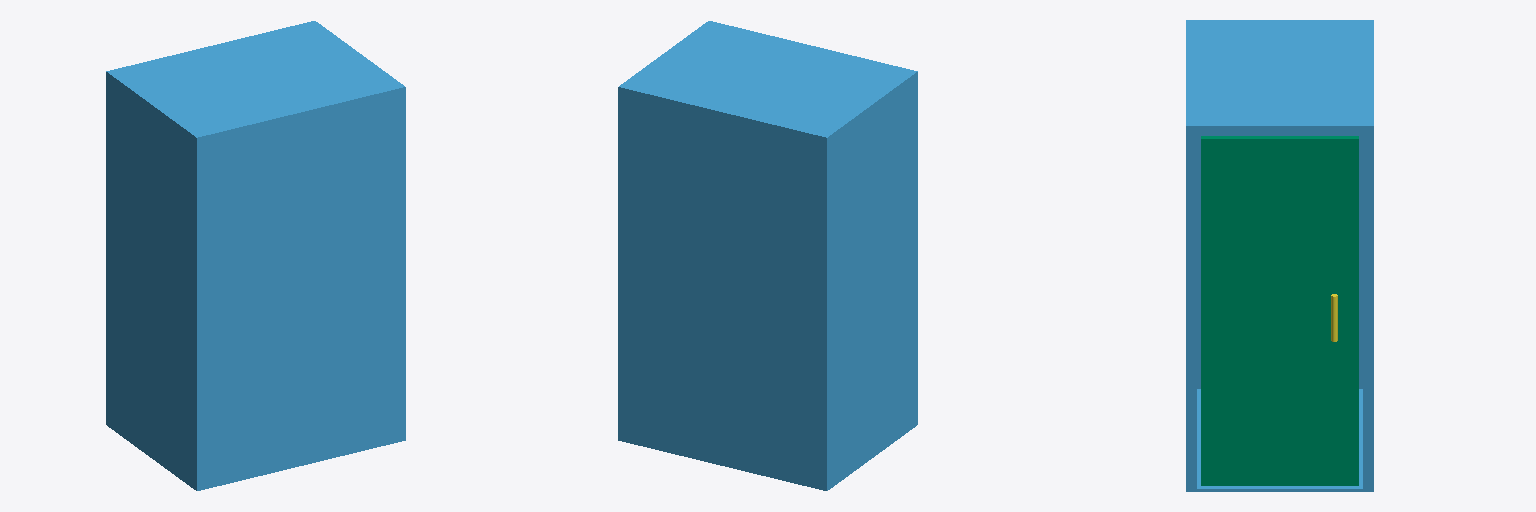
robot.urdf — my_cabinet:
<?xml version="1.0" ?>
<robot name="my_cabinet">
	<link name="world"/>
	<joint name="virtual_joint" type="fixed">
		<parent link="world"/>
		<child link="base_cabinet_link"/>
		<origin xyz="0.0 0.0 0.0" rpy="0.0 0.0 0.0"/>
	</joint>
	<link name="base_cabinet_link">
		<visual>
			<origin xyz="0.0 0.0 -0.3145849093158146" rpy="0.0 0.0 0.0"/>
			<geometry>
				<box size="0.4 0.30079102712133665 0.004"/>
			</geometry>
		</visual>
		<collision name="base_cabinet_link_collision_0">
			<origin xyz="0.0 0.0 -0.3145849093158146" rpy="0.0 0.0 0.0"/>
			<geometry>
				<box size="0.4 0.30079102712133665 0.004"/>
			</geometry>
		</collision>
		<visual>
			<origin xyz="0.0 0.14139551356066832 0.007" rpy="0.0 0.0 0.0"/>
			<geometry>
				<box size="0.4 0.018 0.6471698186316293"/>
			</geometry>
		</visual>
		<collision name="base_cabinet_link_collision_1">
			<origin xyz="0.0 0.14139551356066832 0.007" rpy="0.0 0.0 0.0"/>
			<geometry>
				<box size="0.4 0.018 0.6471698186316293"/>
			</geometry>
		</collision>
		<visual>
			<origin xyz="0.0 -0.14139551356066832 0.007" rpy="0.0 0.0 0.0"/>
			<geometry>
				<box size="0.4 0.018 0.6471698186316293"/>
			</geometry>
		</visual>
		<collision name="base_cabinet_link_collision_2">
			<origin xyz="0.0 -0.14139551356066832 0.007" rpy="0.0 0.0 0.0"/>
			<geometry>
				<box size="0.4 0.018 0.6471698186316293"/>
			</geometry>
		</collision>
		<visual>
			<origin xyz="0.0 0.0 0.3215849093158146" rpy="0.0 0.0 0.0"/>
			<geometry>
				<box size="0.4 0.30079102712133665 0.018"/>
			</geometry>
		</visual>
		<collision name="base_cabinet_link_collision_3">
			<origin xyz="0.0 0.0 0.3215849093158146" rpy="0.0 0.0 0.0"/>
			<geometry>
				<box size="0.4 0.30079102712133665 0.018"/>
			</geometry>
		</collision>
		<visual>
			<origin xyz="-0.191 0.0 0.007" rpy="0.0 0.0 0.0"/>
			<geometry>
				<box size="0.018 0.30079102712133665 0.6471698186316293"/>
			</geometry>
		</visual>
		<collision name="base_cabinet_link_collision_4">
			<origin xyz="-0.191 0.0 0.007" rpy="0.0 0.0 0.0"/>
			<geometry>
				<box size="0.018 0.30079102712133665 0.6471698186316293"/>
			</geometry>
		</collision>
		<inertial>
			<mass value="0.200000"/>
			<inertia ixx="0.008488" ixy="0.0" ixz="0.0" iyy="0.009647" iyz="0.0" izz="0.004175"/>
		</inertial>
	</link>
	<link name="door_link">
		<visual>
			<origin xyz="0.0 -0.11739551356066834 0.0"/>
			<geometry>
				<box size="0.018 0.25479102712133667 0.6151698186316292"/>
			</geometry>
		</visual>
		<collision name="door_link_collision">
			<origin xyz="0.0 -0.11739551356066834 0.0"/>
			<geometry>
				<box size="0.018 0.25479102712133667 0.6151698186316292"/>
			</geometry>
		</collision>
		<inertial>
			<mass value="0.200000"/>
			<inertia ixx="0.007389" ixy="0.0" ixz="0.0" iyy="0.006313" iyz="0.0" izz="0.001087"/>
		</inertial>
	</link>
	<joint name="door_joint" type="revolute">
		<origin xyz="0.191 -0.11739551356066834 0.0" rpy="0.000000 -0.000000 3.141593"/>
		<axis xyz="0 0 1"/>
		<parent link="base_cabinet_link"/>
		<child link="door_link"/>
		<limit effort="50" lower="0" upper="-1.5707963267948966" velocity="10"/>
		<dynamics friction="1.0"/>
	</joint>
	<link name="handle_link">
		<visual>
			<origin xyz="0.0 0.0 0.0" rpy="0.0 0.0 0.0"/>
			<geometry>
				<cylinder length="0.08" radius="0.005"/>
			</geometry>
		</visual>
		<collision name="handle_link_collision_0">
			<origin xyz="0.0 0.0 0.0" rpy="0.0 0.0 0.0"/>
			<geometry>
				<cylinder length="0.08" radius="0.005"/>
			</geometry>
		</collision>
		<visual>
			<origin xyz="-0.01 0.0 0.02" rpy="0.0 1.5707963267948966 0.0"/>
			<geometry>
				<cylinder length="0.02" radius="0.003"/>
			</geometry>
		</visual>
		<collision name="handle_link_collision_1">
			<origin xyz="-0.01 0.0 0.02" rpy="0.0 1.5707963267948966 0.0"/>
			<geometry>
				<cylinder length="0.01" radius="0.003"/>
			</geometry>
		</collision>
		<visual>
			<origin xyz="-0.01 0.0 -0.02" rpy="0.0 1.5707963267948966 0.0"/>
			<geometry>
				<cylinder length="0.02" radius="0.003"/>
			</geometry>
		</visual>
		<collision name="handle_link_collision_2">
			<origin xyz="-0.01 0.0 -0.02" rpy="0.0 1.5707963267948966 0.0"/>
			<geometry>
				<cylinder length="0.02" radius="0.003"/>
			</geometry>
		</collision>
		<inertial>
			<mass value="0.050000"/>
			<inertia ixx="0.000027" ixy="0.0" ixz="0.0" iyy="0.000029" iyz="0.0" izz="0.000003"/>
		</inertial>
	</link>
	<joint name="handle_joint" type="fixed">
		<origin xyz="-0.028999999999999998 -0.20479102712133668 0.0" rpy="0.000000 -0.000000 3.141593"/>
		<parent link="door_link"/>
		<child link="handle_link"/>
	</joint>
	<gazebo reference="base_cabinet_link">
		<sensor name="main_sensor" type="contact">
			<selfCollide>true</selfCollide>
			<alwaysOn>true</alwaysOn>
			<updateRate>5.0</updateRate>
			<material>Gazebo/Red</material>
			<contact>
				<collision>base_cabinet_link_collision_0_collision</collision>
				<collision>base_cabinet_link_collision_1_collision</collision>
				<collision>base_cabinet_link_collision_2_collision</collision>
				<collision>base_cabinet_link_collision_3_collision</collision>
				<collision>base_cabinet_link_collision_4_collision</collision>
			</contact>
			<plugin name="gazebo_ros_bumper_controller" filename="libgazebo_ros_bumper.so">
				<bumperTopicName>/contact</bumperTopicName>
				<frameName>world</frameName>
			</plugin>
		</sensor>
	</gazebo>
	<gazebo reference="door_link">
		<sensor name="main_sensor" type="contact">
			<selfCollide>true</selfCollide>
			<alwaysOn>true</alwaysOn>
			<updateRate>5.0</updateRate>
			<material>Gazebo/Red</material>
			<contact>
				<collision>door_link_collision_collision</collision>
			</contact>
			<plugin name="gazebo_ros_bumper_controller" filename="libgazebo_ros_bumper.so">
				<bumperTopicName>/contact_door</bumperTopicName>
				<frameName>contact_door</frameName>
			</plugin>
		</sensor>
	</gazebo>
</robot>

--- Render facts (derived) ---
Views: 3 orthographic renders of the robot side by side, from view 1: azimuth 30°, elevation 25°; view 2: azimuth 150°, elevation 25°; view 3: azimuth 270°, elevation 25°.
Model my_cabinet with 4 links and 3 joints (1 revolute, 2 fixed), rooted at world, posed every joint at zero.
Visible links, largest first — view 1: base_cabinet_link; view 2: base_cabinet_link; view 3: door_link, base_cabinet_link.
Boxes of the visible links, bbox=[...] form: base_cabinet_link: bbox=[106, 21, 405, 490]; base_cabinet_link: bbox=[618, 21, 917, 490]; door_link: bbox=[1201, 136, 1358, 485]; base_cabinet_link: bbox=[1186, 20, 1373, 491].
Size in the robot's own frame: 0.425 by 0.3008 by 0.6472 metres.
Geometry: primitives only (box / cylinder / sphere), no mesh files.
